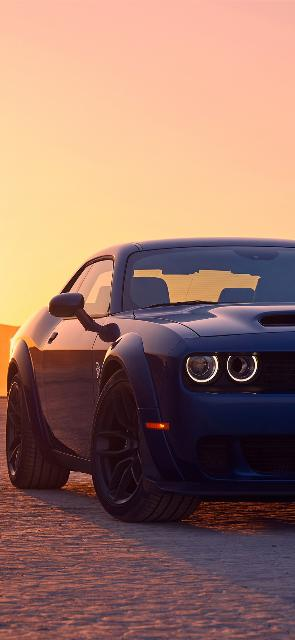dodge: (4, 237, 295, 525)
